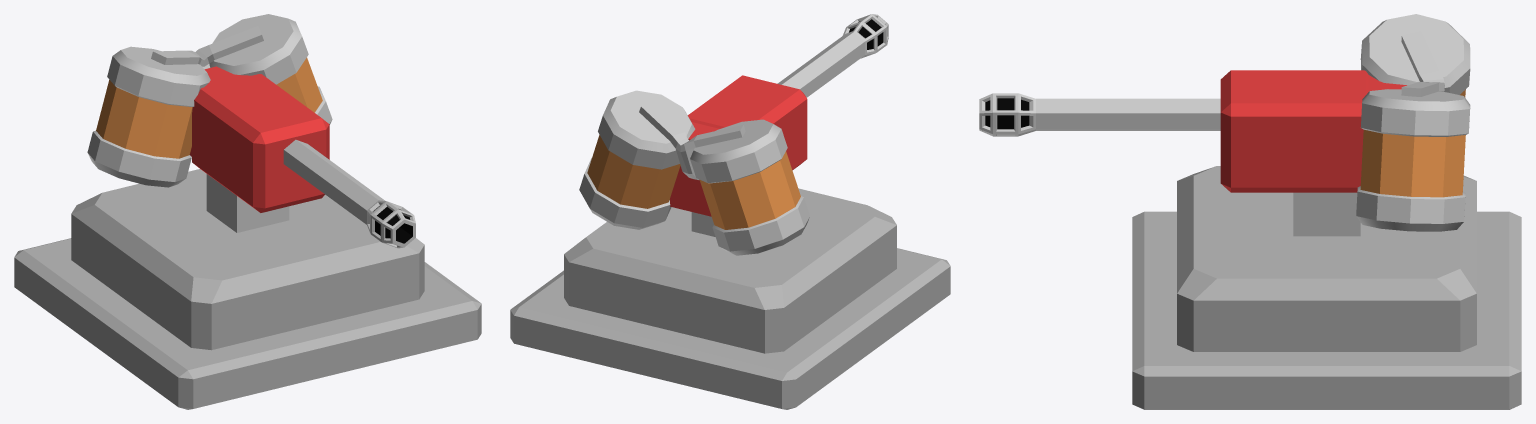
File: faer.fbx
3 views of the same model, side by side, from view 1: azimuth 30°, elevation 25°; view 2: azimuth 150°, elevation 25°; view 3: azimuth 270°, elevation 25° (orthographic). The views are drawn at different scales.
Visible parts, largest first — view 1: Cube.001, Cube, Cylinder, Cube.002, Cylinder.001, Cube.006, Cube.005, Cube.007; view 2: Cube.001, Cube, Cylinder, Cube.002, Cylinder.001, Cube.005, Cube.007, Cube.006; view 3: Cube.001, Cube, Cylinder, Cube.002, Cylinder.001, Cube.006, Cube.005.
Part boxes in pixels (x1=…): Cube.001: x1=71, y1=169, x2=424, y2=350; Cube: x1=14, y1=238, x2=481, y2=409; Cylinder: x1=87, y1=14, x2=332, y2=187; Cube.002: x1=192, y1=74, x2=329, y2=212; Cylinder.001: x1=283, y1=139, x2=415, y2=248; Cube.006: x1=206, y1=174, x2=289, y2=232; Cube.005: x1=151, y1=26, x2=263, y2=69; Cube.007: x1=189, y1=66, x2=250, y2=156; Cube.001: x1=564, y1=188, x2=896, y2=353; Cube: x1=510, y1=248, x2=950, y2=409; Cylinder: x1=579, y1=90, x2=809, y2=255; Cube.002: x1=688, y1=75, x2=807, y2=170; Cylinder.001: x1=777, y1=14, x2=888, y2=97; Cube.005: x1=639, y1=103, x2=745, y2=179; Cube.007: x1=670, y1=122, x2=719, y2=216; Cube.006: x1=691, y1=212, x2=715, y2=236; Cube.001: x1=1177, y1=166, x2=1476, y2=351; Cube: x1=1132, y1=211, x2=1521, y2=409; Cylinder: x1=1356, y1=14, x2=1470, y2=231; Cube.002: x1=1220, y1=70, x2=1368, y2=192; Cylinder.001: x1=979, y1=93, x2=1220, y2=136; Cube.006: x1=1293, y1=192, x2=1360, y2=236; Cube.005: x1=1401, y1=31, x2=1444, y2=96.
Size of the model in its own units: 400 by 312 by 557.
